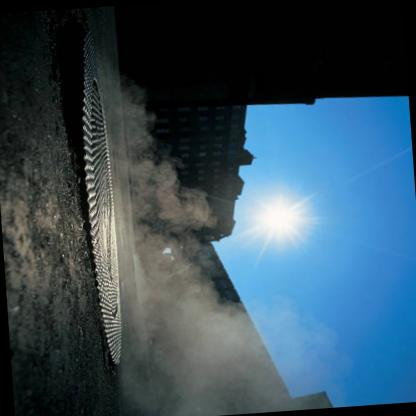manholes: (40, 22, 160, 376)
